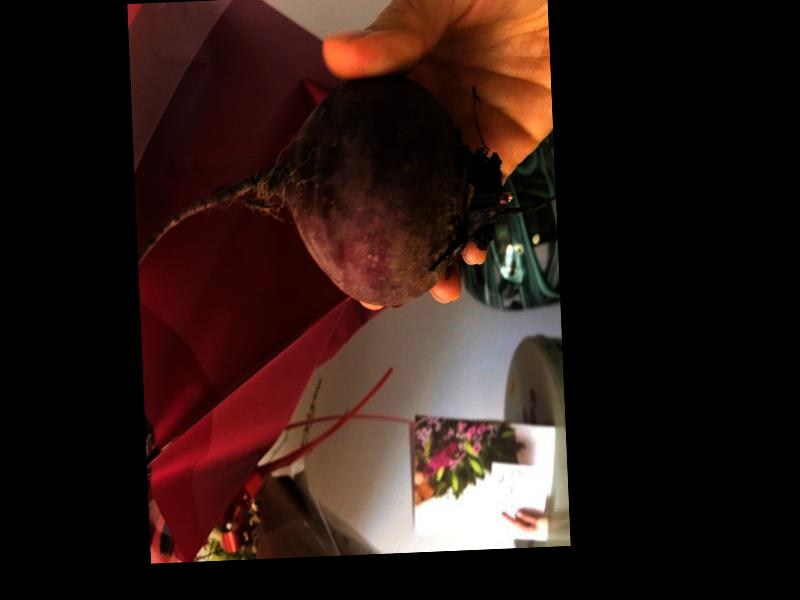Beet: (132, 69, 557, 317)
